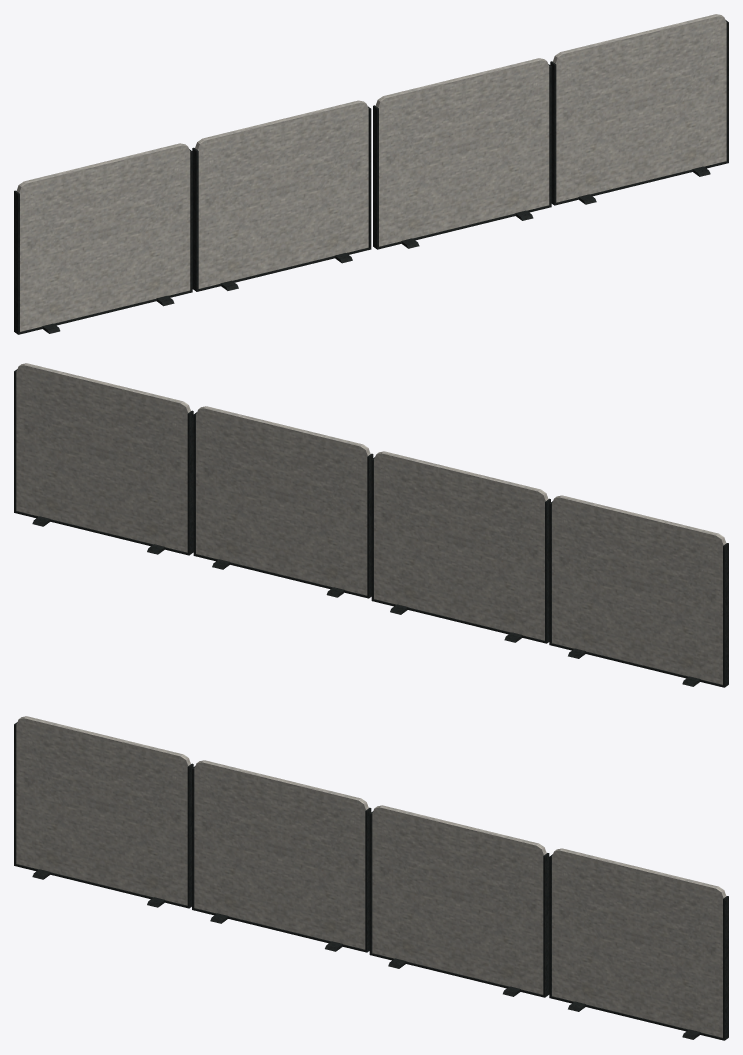
File: divider_black_02.fbx
3 views of the same model, one above another, from view 1: azimuth 30°, elevation 25°; view 2: azimuth 150°, elevation 25°; view 3: azimuth 330°, elevation 25° (orthographic).
Parts seen in each view (by area): view 1: divider_black16; view 2: divider_black16; view 3: divider_black16.
Boxes of the visible parts, x1,y1,x2,y2 form: divider_black16: [14, 14, 728, 334]; divider_black16: [14, 363, 728, 687]; divider_black16: [14, 716, 728, 1040].
Bounding box in the file's own units: 1244 × 250 × 59.74.
